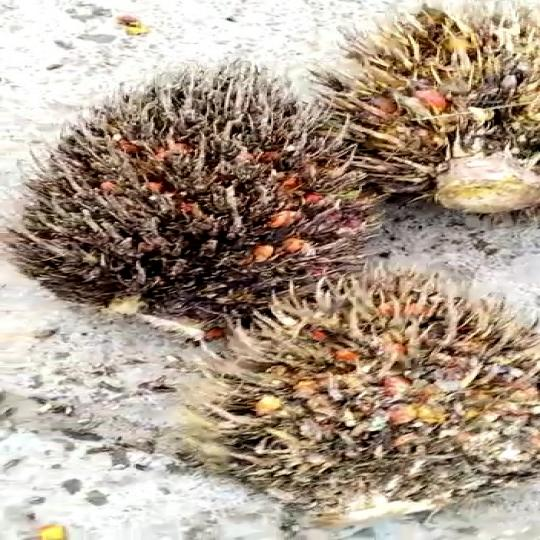terlalu masak: (0, 64, 374, 321), (180, 273, 540, 498), (316, 5, 540, 213)
